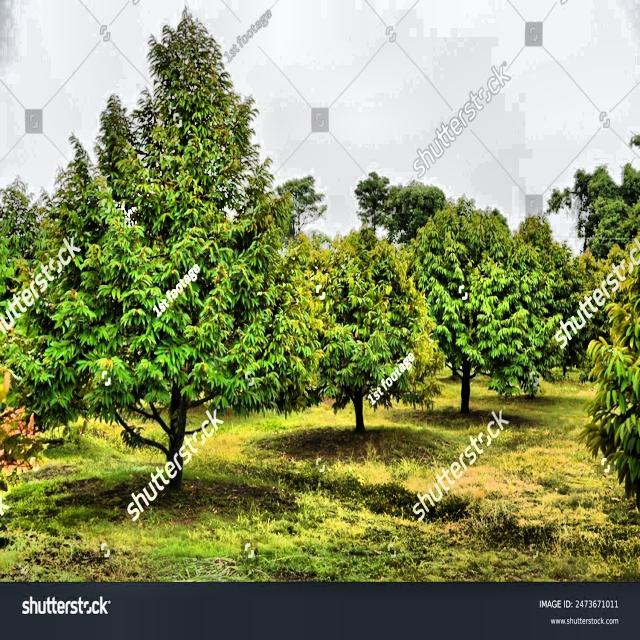arvore: (141, 338, 188, 500), (447, 320, 482, 433), (339, 354, 374, 445)
